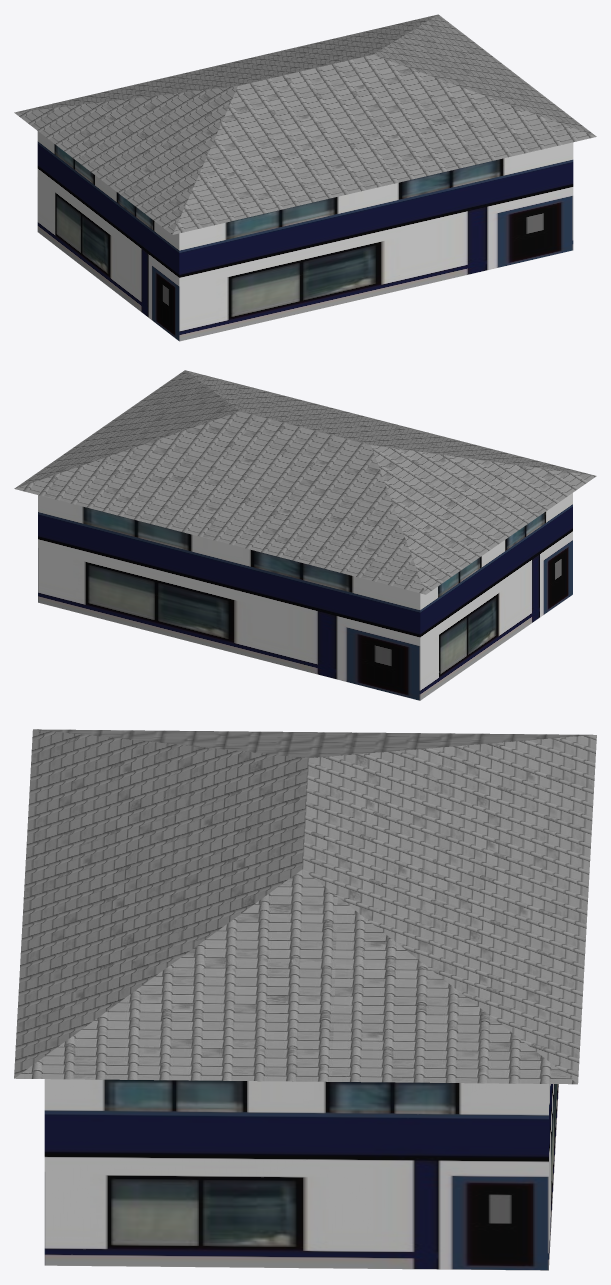
3 renders of one model, top to bottom at view 1: azimuth 30°, elevation 25°; view 2: azimuth 150°, elevation 25°; view 3: azimuth 270°, elevation 25°, orthographic. The views are drawn at different scales.
Parts seen in each view (by area): view 1: CityEngineMaterial_4_m, CityEngineMaterial_2_m; view 2: CityEngineMaterial_4_m, CityEngineMaterial_2_m; view 3: CityEngineMaterial_4_m, CityEngineMaterial_2_m.
Part boxes in pixels (x1=…): CityEngineMaterial_4_m: x1=14, y1=14, x2=596, y2=234; CityEngineMaterial_2_m: x1=37, y1=131, x2=573, y2=341; CityEngineMaterial_4_m: x1=14, y1=370, x2=596, y2=594; CityEngineMaterial_2_m: x1=38, y1=493, x2=572, y2=700; CityEngineMaterial_4_m: x1=14, y1=729, x2=596, y2=1084; CityEngineMaterial_2_m: x1=44, y1=1079, x2=558, y2=1270.
Size of the model in its own units: 26.39 by 10.14 by 18.32.
